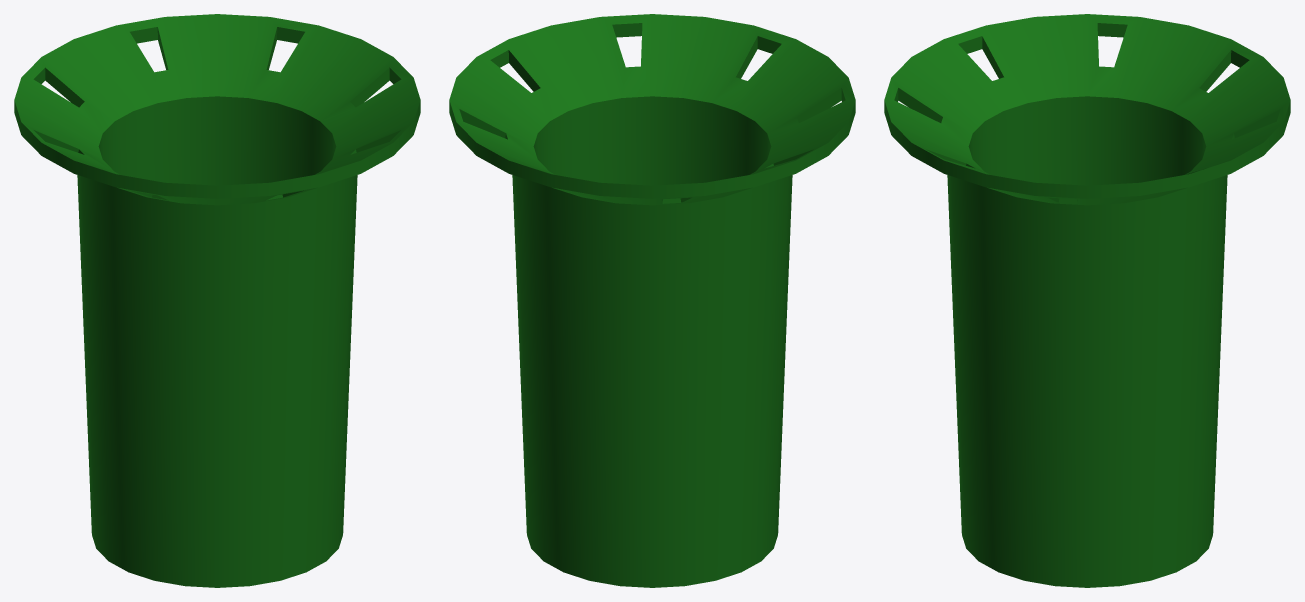
The model's file is recyclingBin.fbx.
The picture shows the model from 3 angles, left to right: view 1: azimuth 30°, elevation 25°; view 2: azimuth 150°, elevation 25°; view 3: azimuth 270°, elevation 25°; orthographic projection.
Visible parts, largest first — view 1: Recycling Bin; view 2: Recycling Bin; view 3: Recycling Bin.
Boxes of the visible parts, left/top/right/bottom form: Recycling Bin: left=14, top=14, right=420, bottom=587; Recycling Bin: left=449, top=14, right=855, bottom=587; Recycling Bin: left=884, top=14, right=1290, bottom=587.
Bounding box in the file's own units: 86.29 × 86.29 × 102.
